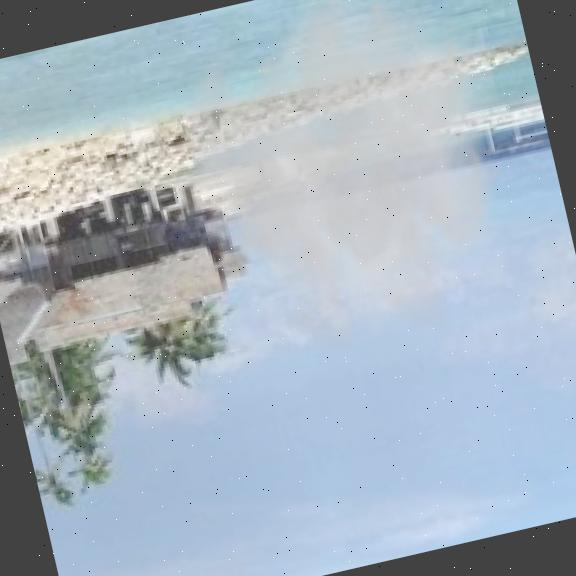smoke: (130, 0, 547, 389)
